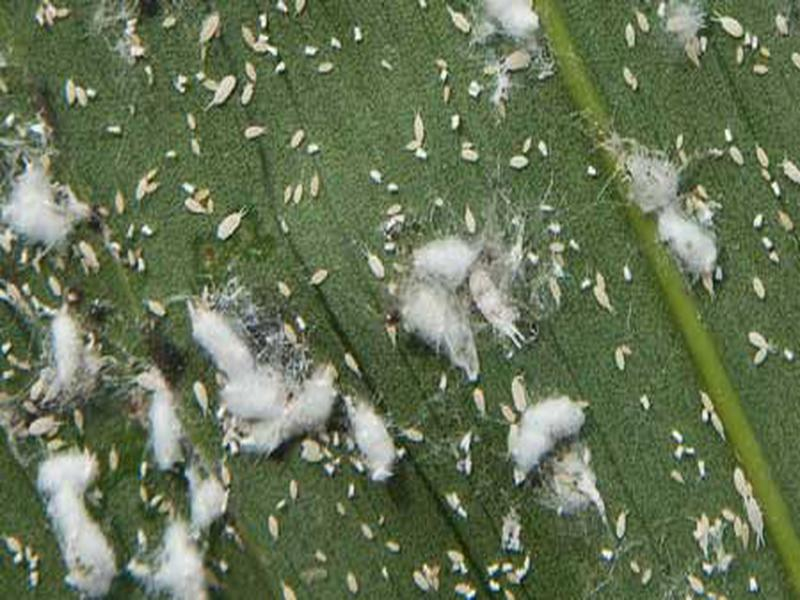Mealy_bug: (12, 305, 283, 584), (383, 225, 556, 382), (606, 116, 726, 279)
